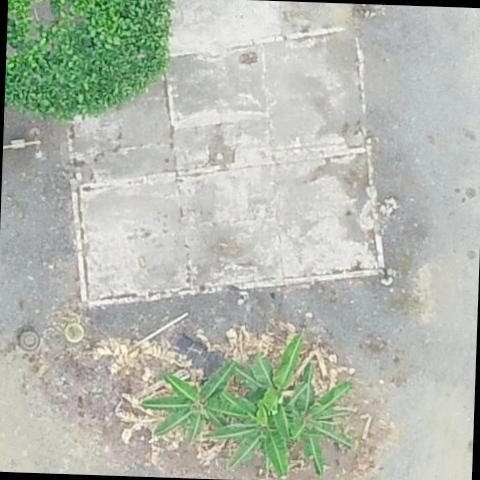Banana-plant: (227, 330, 333, 436), (142, 355, 250, 457), (262, 368, 361, 478), (211, 392, 309, 476)
